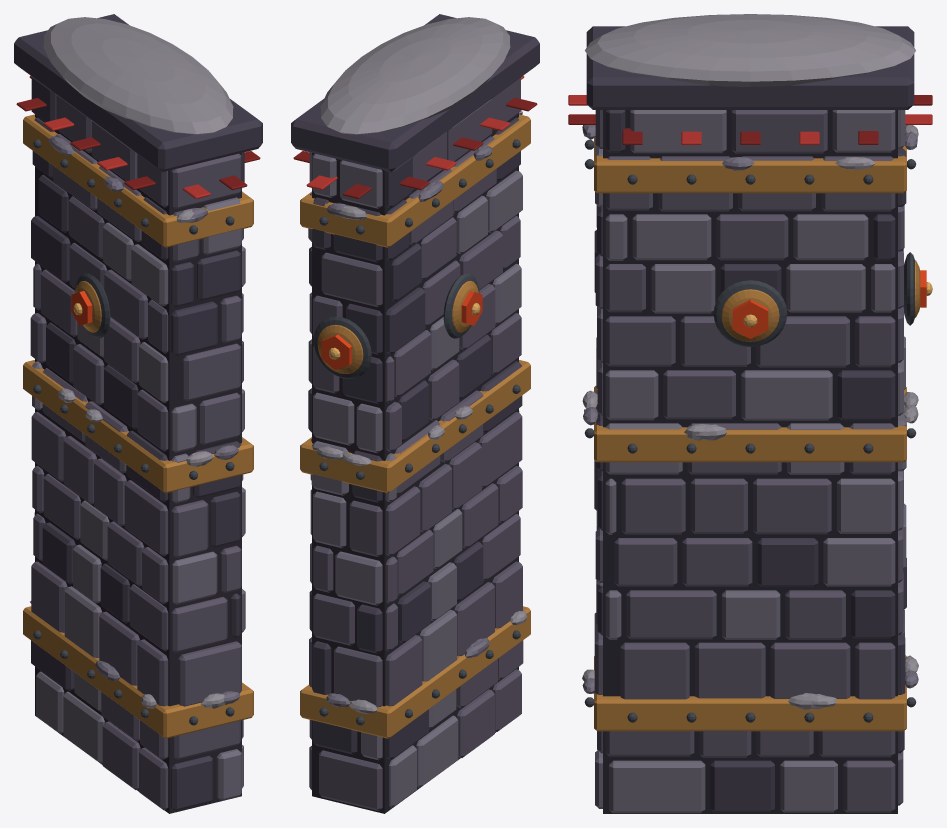
File: BossGate_EmberFortress.fbx
3 renders of one model, left to right at view 1: azimuth 30°, elevation 25°; view 2: azimuth 150°, elevation 25°; view 3: azimuth 270°, elevation 25°, orthographic. The views are drawn at different scales.
Visible parts, largest first — view 1: BossGate_EmberFortress; view 2: BossGate_EmberFortress; view 3: BossGate_EmberFortress.
Boxes of the visible parts, <box> form: BossGate_EmberFortress: <box>14,14,262,813</box>; BossGate_EmberFortress: <box>291,14,539,813</box>; BossGate_EmberFortress: <box>568,14,932,813</box>.
Bounding box in the file's own units: 158 × 824 × 356.
